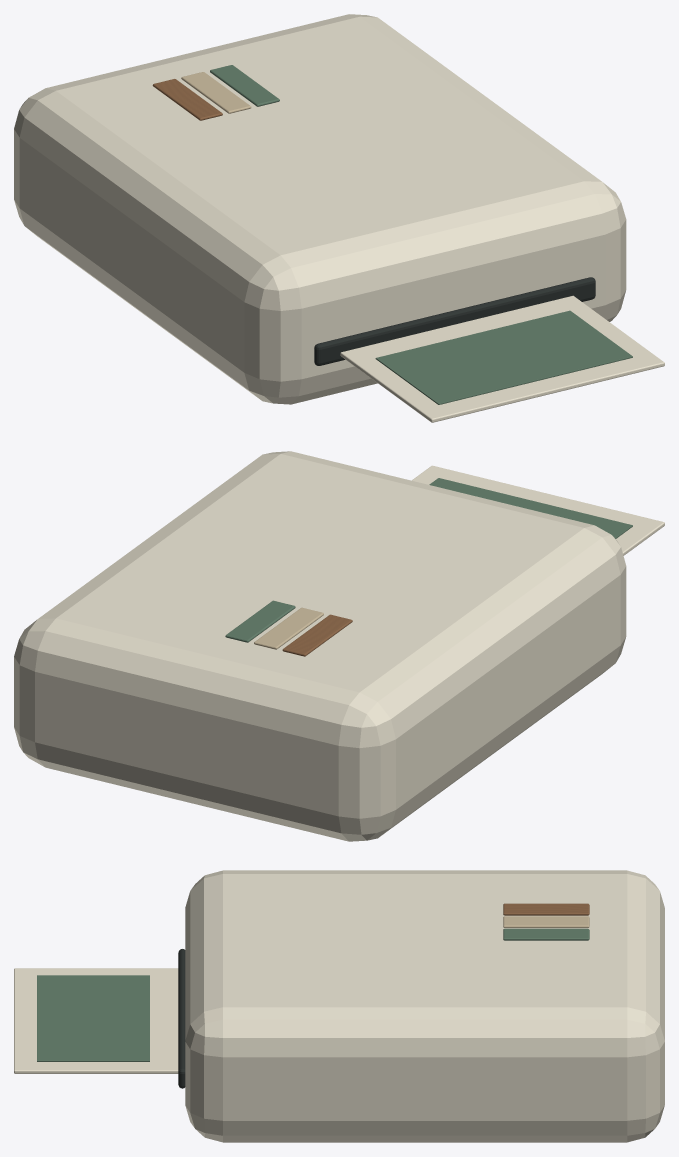
The model's file is printer-1.glb.
3 views of the same model, one above another, from view 1: azimuth 30°, elevation 25°; view 2: azimuth 150°, elevation 25°; view 3: azimuth 270°, elevation 25° (orthographic). The views are drawn at different scales.
Visible parts, largest first — view 1: Printer shell, Photo inset, Paper, Output slot, Status stripe, Status stripe.001, Status stripe.002; view 2: Printer shell, Paper, Photo inset, Status stripe, Status stripe.002, Status stripe.001; view 3: Printer shell, Photo inset, Paper, Status stripe, Status stripe.002, Output slot, Status stripe.001.
Part boxes in pixels (x1,y1,x2,y2): Printer shell: (14, 14, 626, 404); Photo inset: (375, 310, 632, 404); Paper: (340, 295, 664, 422); Output slot: (314, 277, 595, 365); Status stripe: (152, 79, 222, 120); Status stripe.001: (181, 72, 251, 113); Status stripe.002: (210, 65, 279, 106); Printer shell: (14, 451, 626, 841); Paper: (412, 465, 664, 555); Photo inset: (429, 478, 632, 538); Status stripe: (282, 614, 352, 656); Status stripe.002: (225, 600, 295, 642); Status stripe.001: (254, 607, 323, 649); Printer shell: (185, 870, 664, 1142); Photo inset: (37, 975, 149, 1061); Paper: (14, 968, 178, 1073); Status stripe: (503, 903, 589, 915); Status stripe.002: (503, 928, 589, 940); Output slot: (178, 949, 185, 1088); Status stripe.001: (503, 916, 589, 927).
Bounding box in the file's own units: 0.145 × 0.0555 × 0.2415.
6 materials, 1 textured.
